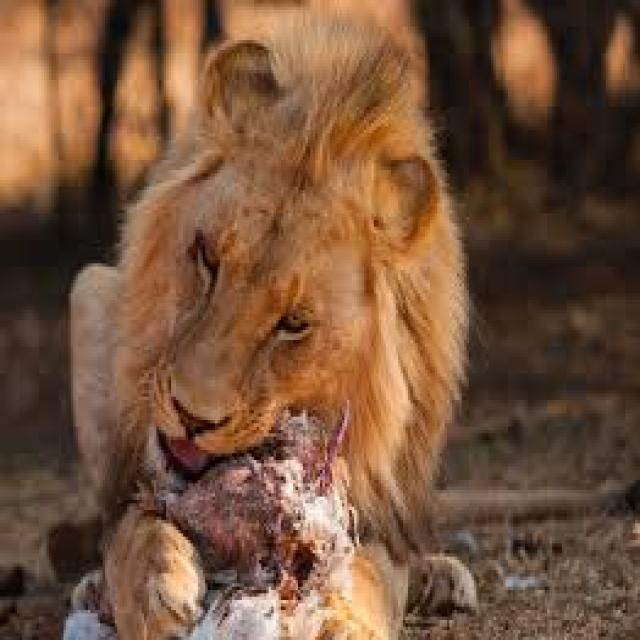Lion: (76, 20, 469, 636)
